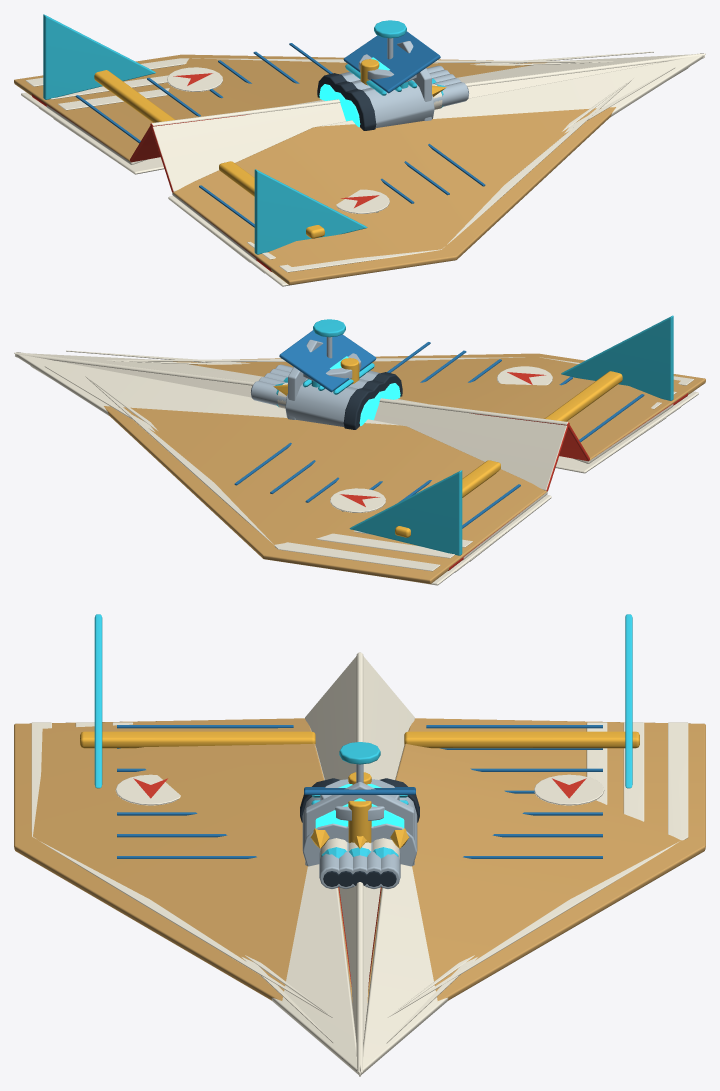
Rendered from fleet.glb.
The picture shows the model from 3 angles, top to bottom: view 1: azimuth 30°, elevation 25°; view 2: azimuth 150°, elevation 25°; view 3: azimuth 270°, elevation 25°; orthographic projection. The views are drawn at different scales.
Parts seen in each view (by area): view 1: hull_card, hull_notebook, enemy_interceptor, hull_flyer, module_engine_1, module_engine_2, module_cannon_2, module_amplifier_2, module_shield_0, module_engine_0, module_amplifier_0; view 2: hull_card, hull_notebook, enemy_interceptor, hull_flyer, module_engine_1, module_engine_2, module_cannon_2, module_amplifier_2, module_shield_0, module_engine_0, module_amplifier_0; view 3: hull_card, hull_notebook, hull_flyer, enemy_interceptor, module_shield_0, module_engine_1, module_cannon_2, module_amplifier_1, module_cannon_1, module_amplifier_2, module_amplifier_0, module_missile_1 (+1 smaller).
Boxes of the visible parts, <box> form: hull_card: <box>14,54,634,286</box>; hull_notebook: <box>46,43,705,262</box>; enemy_interceptor: <box>43,14,367,254</box>; hull_flyer: <box>31,62,630,273</box>; module_engine_1: <box>317,64,434,130</box>; module_engine_2: <box>343,31,440,93</box>; module_cannon_2: <box>426,65,468,106</box>; module_amplifier_2: <box>374,20,406,59</box>; module_shield_0: <box>397,41,431,120</box>; module_engine_0: <box>330,72,373,121</box>; module_amplifier_0: <box>358,54,416,88</box>; hull_card: <box>85,353,705,585</box>; hull_notebook: <box>14,342,673,561</box>; enemy_interceptor: <box>349,315,673,555</box>; hull_flyer: <box>89,360,688,572</box>; module_engine_1: <box>285,363,402,429</box>; module_engine_2: <box>279,330,376,392</box>; module_cannon_2: <box>251,364,293,406</box>; module_amplifier_2: <box>313,319,345,358</box>; module_shield_0: <box>288,339,322,419</box>; module_engine_0: <box>346,371,386,420</box>; module_amplifier_0: <box>303,353,361,387</box>; hull_card: <box>14,718,705,1017</box>; hull_notebook: <box>112,652,607,1076</box>; hull_flyer: <box>75,722,644,1013</box>; enemy_interceptor: <box>94,614,632,788</box>; module_shield_0: <box>305,782,414,865</box>; module_engine_1: <box>300,778,419,866</box>; module_cannon_2: <box>319,851,400,888</box>; module_amplifier_1: <box>348,772,371,842</box>; module_cannon_1: <box>338,842,381,888</box>; module_amplifier_2: <box>339,742,380,782</box>; module_amplifier_0: <box>320,779,399,820</box>; module_missile_1: <box>320,838,399,859</box>.
Bounding box in the file's own units: 5.44 × 1.12 × 4.7.
